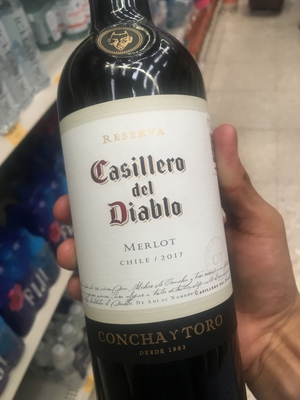casillero del diablo merlot: (51, 10, 246, 400)
